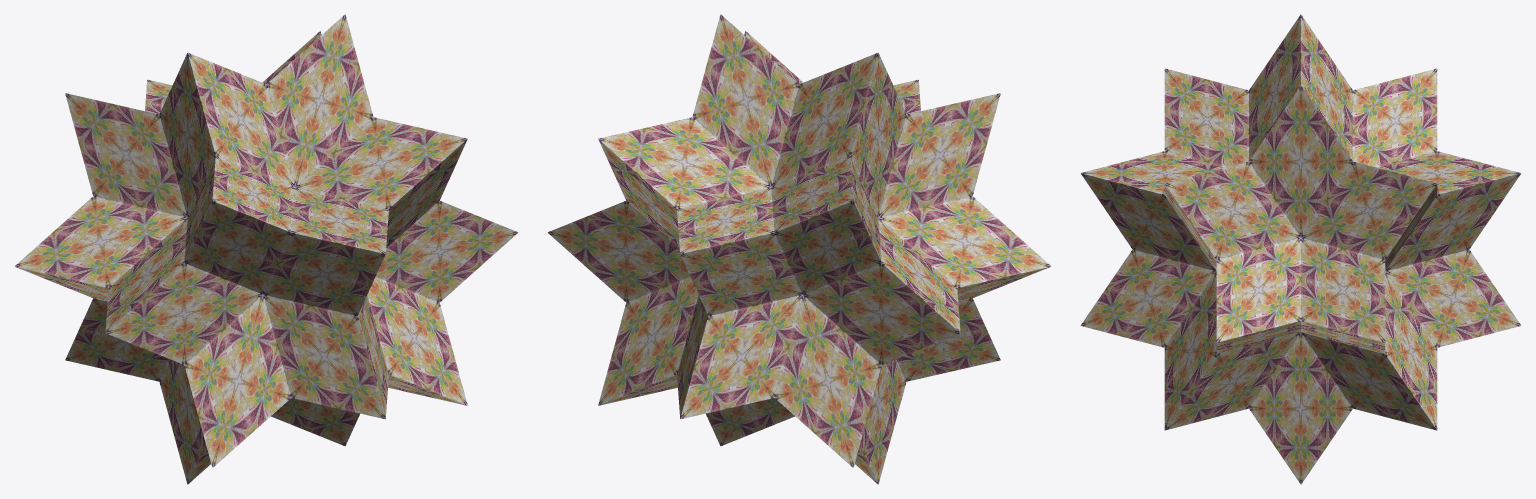
File: RhombicHexecontahedron4.obj
3 renders of one model, left to right at view 1: azimuth 30°, elevation 25°; view 2: azimuth 150°, elevation 25°; view 3: azimuth 270°, elevation 25°, orthographic. The views are drawn at different scales.
Bounding box in the file's own units: 4.45 × 4.45 × 4.45.
1 material, 1 textured.
